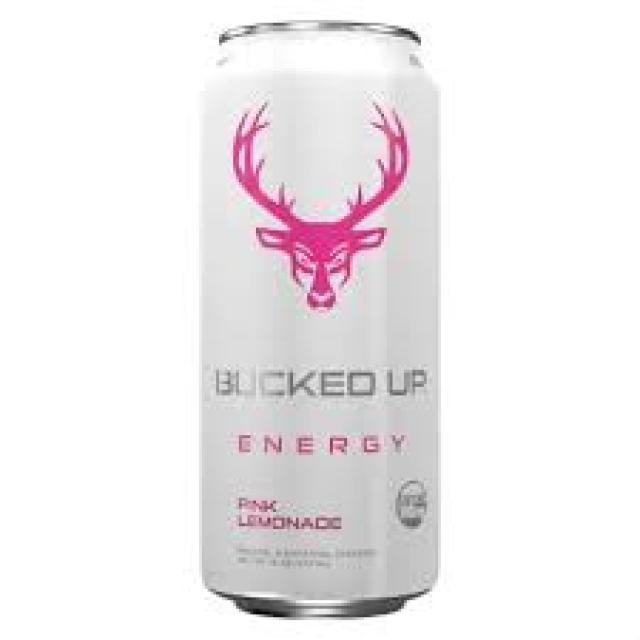Cans: (182, 8, 455, 623)
